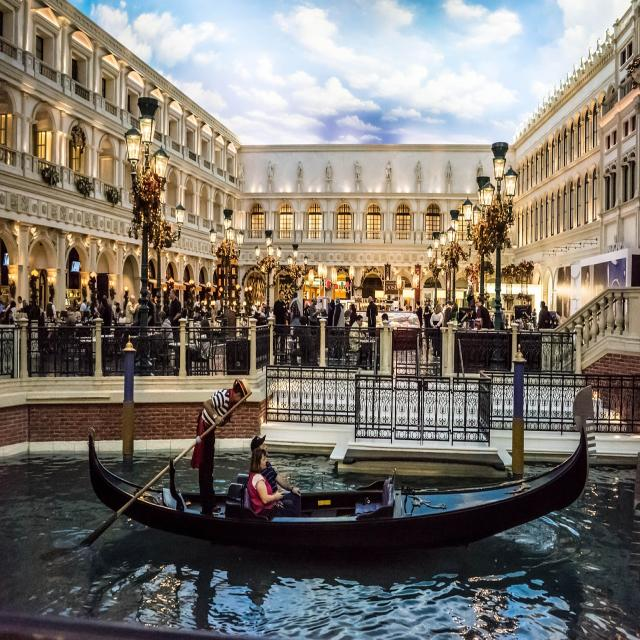boat: (75, 396, 604, 569)
